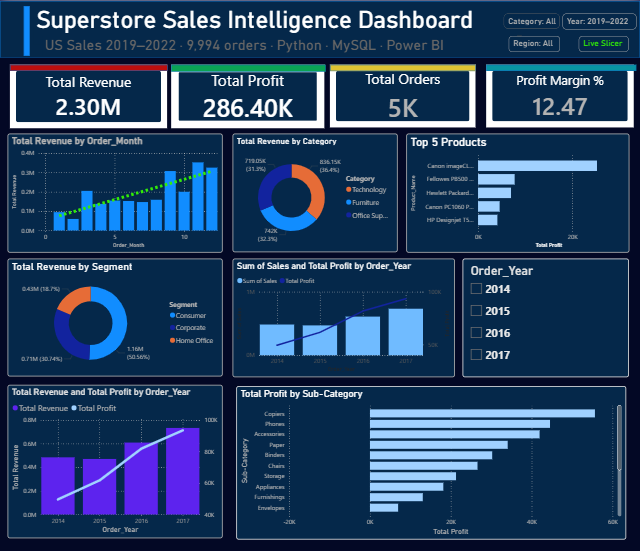

What the dashboard file says about the page in this screenshot:
{"tool":"powerbi","page":{"name":"Page 1","canvas":[1280,1100],"ordinal":0},"visuals":[{"type":"cardVisual","fields":{"Data":["superstore_clean.Total Revenue"]},"box":[14.3,122.9,324,137.1],"z":0},{"type":"cardVisual","fields":{"Data":["superstore_clean.Total Profit"]},"box":[337.5,122.5,316.2,137.5],"z":1000},{"type":"cardVisual","fields":{"Data":["superstore_clean.Total Orders"]},"box":[654.3,122.9,301.4,135.7],"z":2000},{"type":"cardVisual","fields":{"Data":["superstore_clean.Profit Margin %"]},"box":[967.5,122.5,305,135],"z":3000},{"type":"shape","box":[0,0,1280,113.6],"z":4000},{"type":"shape","box":[48,10,12,100],"z":5000},{"type":"textbox","title":"Superstore Sales Intelligence Dashboard","box":[66.7,10,980,76.7],"z":6000},{"type":"textbox","title":"US Sales 2019–2022  ·  9,994 orders  ·  Python · MySQL · Power BI","box":[86,70,902,40],"z":7000},{"type":"textbox","title":"Category: All","box":[1008,26,112,30],"z":8000},{"type":"textbox","title":"Region: All","box":[1018,70,102,32],"z":9000},{"type":"textbox","title":"Year: 2019–2022","box":[1124,26,148,32],"z":10000},{"type":"textbox","title":"Live Slicer","box":[1158,70,100,32],"z":11000},{"type":"clusteredColumnChart","fields":{"Category":["superstore_clean.Order_Month"],"Y":["superstore_clean.Total Revenue"]},"box":[14,264,430,238],"z":12000},{"type":"donutChart","fields":{"Category":["superstore_clean.Segment"],"Y":["superstore_clean.Total Revenue"]},"box":[14.3,515.7,430,235.7],"z":13000},{"type":"donutChart","fields":{"Category":["superstore_clean.Category"],"Y":["superstore_clean.Total Revenue"]},"box":[465,265,330,237.5],"z":14000},{"type":"clusteredBarChart","fields":{"Category":["superstore_clean.Sub-Category"],"Y":["superstore_clean.Total Profit"]},"box":[472.5,770,780,307.5],"z":15000},{"type":"clusteredBarChart","title":"Top 5 Products  ","fields":{"Category":["superstore_clean.Product_Name"],"Y":["superstore_clean.Total Profit"]},"box":[812,264,446,238],"z":16000},{"type":"lineClusteredColumnComboChart","fields":{"Y":["Sum(superstore_clean.Sales)"],"Y2":["superstore_clean.Total Profit"],"Category":["superstore_clean.Order_Year"]},"box":[465,515,445,237.5],"z":17000},{"type":"shape","box":[18.8,127.5,315,12.5],"z":18000},{"type":"shape","box":[660,127.1,291.4,12.9],"z":19000},{"type":"shape","box":[341.2,127.5,308.8,13.8],"z":20000},{"type":"shape","box":[972.5,127.5,300,12.5],"z":21000},{"type":"lineClusteredColumnComboChart","fields":{"Category":["superstore_clean.Order_Year"],"Y":["superstore_clean.Total Revenue"],"Y2":["superstore_clean.Total Profit"]},"box":[15,767.5,430,307.5],"z":22000},{"type":"slicer","fields":{"Values":["superstore_clean.Order_Year"]},"box":[925,515,332.5,237.5],"z":23000}]}

Visuals, with their boxes in screenshot pixels (x1, y1, x2, y2), scaled from the page's 1280x1100 canvas onto the 640x551 screenshot:
cardVisual - superstore_clean.Total Revenue: region(7, 62, 169, 130)
cardVisual - superstore_clean.Total Profit: region(169, 61, 327, 130)
cardVisual - superstore_clean.Total Orders: region(327, 62, 478, 130)
cardVisual - superstore_clean.Profit Margin %: region(484, 61, 636, 129)
shape: region(0, 0, 639, 57)
shape: region(24, 5, 30, 55)
"Superstore Sales Intelligence Dashboard" textbox: region(33, 5, 523, 43)
"US Sales 2019–2022  ·  9,994 orders  ·  Python · MySQL · Power BI" textbox: region(43, 35, 494, 55)
"Category: All" textbox: region(504, 13, 560, 28)
"Region: All" textbox: region(509, 35, 560, 51)
"Year: 2019–2022" textbox: region(562, 13, 636, 29)
"Live Slicer" textbox: region(579, 35, 629, 51)
clusteredColumnChart - superstore_clean.Order_Month x superstore_clean.Total Revenue: region(7, 132, 222, 251)
donutChart - superstore_clean.Segment x superstore_clean.Total Revenue: region(7, 258, 222, 376)
donutChart - superstore_clean.Category x superstore_clean.Total Revenue: region(232, 133, 398, 252)
clusteredBarChart - superstore_clean.Sub-Category x superstore_clean.Total Profit: region(236, 386, 626, 540)
"Top 5 Products  " clusteredBarChart: region(406, 132, 629, 251)
lineClusteredColumnComboChart - Sum(superstore_clean.Sales) x superstore_clean.Total Profit: region(232, 258, 455, 377)
shape: region(9, 64, 167, 70)
shape: region(330, 64, 476, 70)
shape: region(171, 64, 325, 71)
shape: region(486, 64, 636, 70)
lineClusteredColumnComboChart - superstore_clean.Order_Year x superstore_clean.Total Revenue: region(8, 384, 222, 538)
slicer - superstore_clean.Order_Year: region(462, 258, 629, 377)
